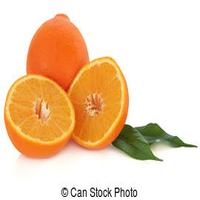orange: (64, 60, 139, 158), (26, 11, 97, 111), (4, 77, 76, 163)
